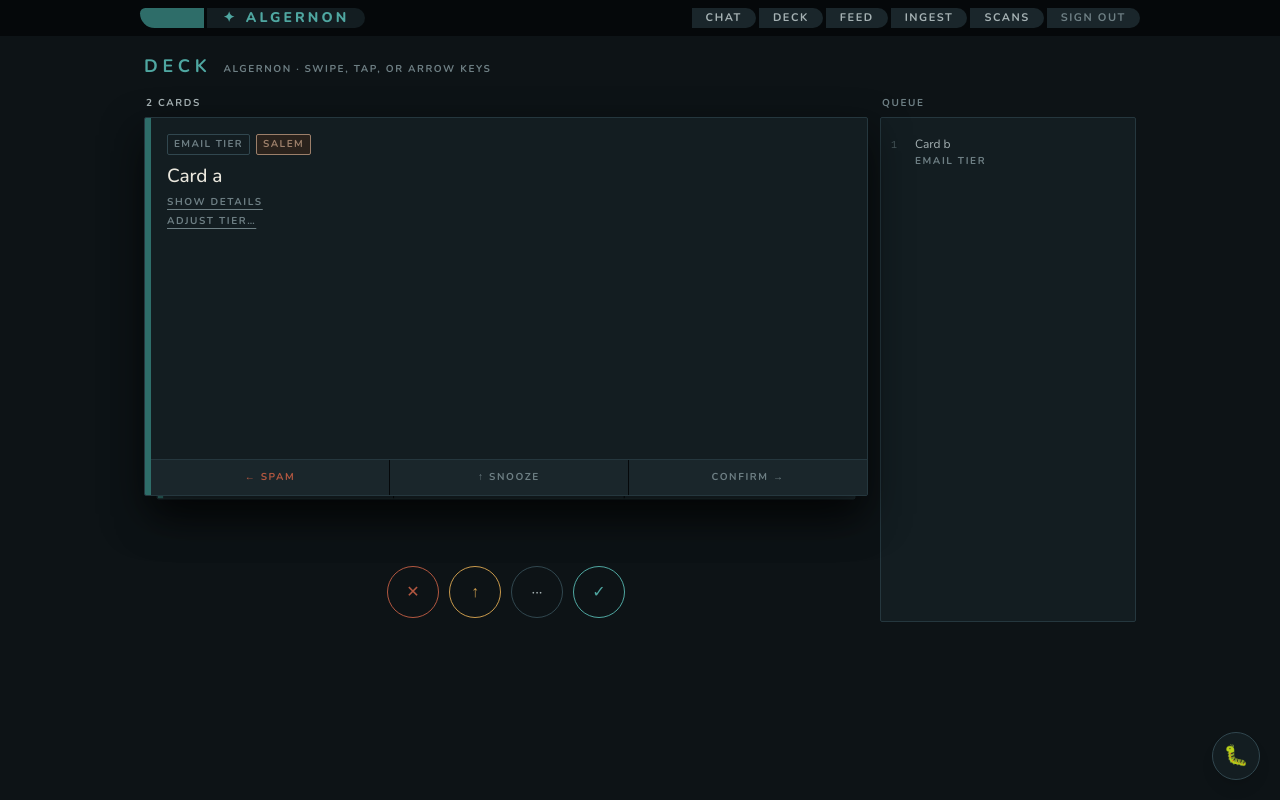
Scenario: a resume must not strand the cursor › an unrecorded verdict survives the re-deal — the ledger is not session state
The width and height of the screenshot is (1280, 800).
Check: the element with test id "deck-card" is shown, box [144, 117, 868, 496]
Click the button with test id "deck-btn-affirm" at (599, 592), box [573, 566, 625, 618]
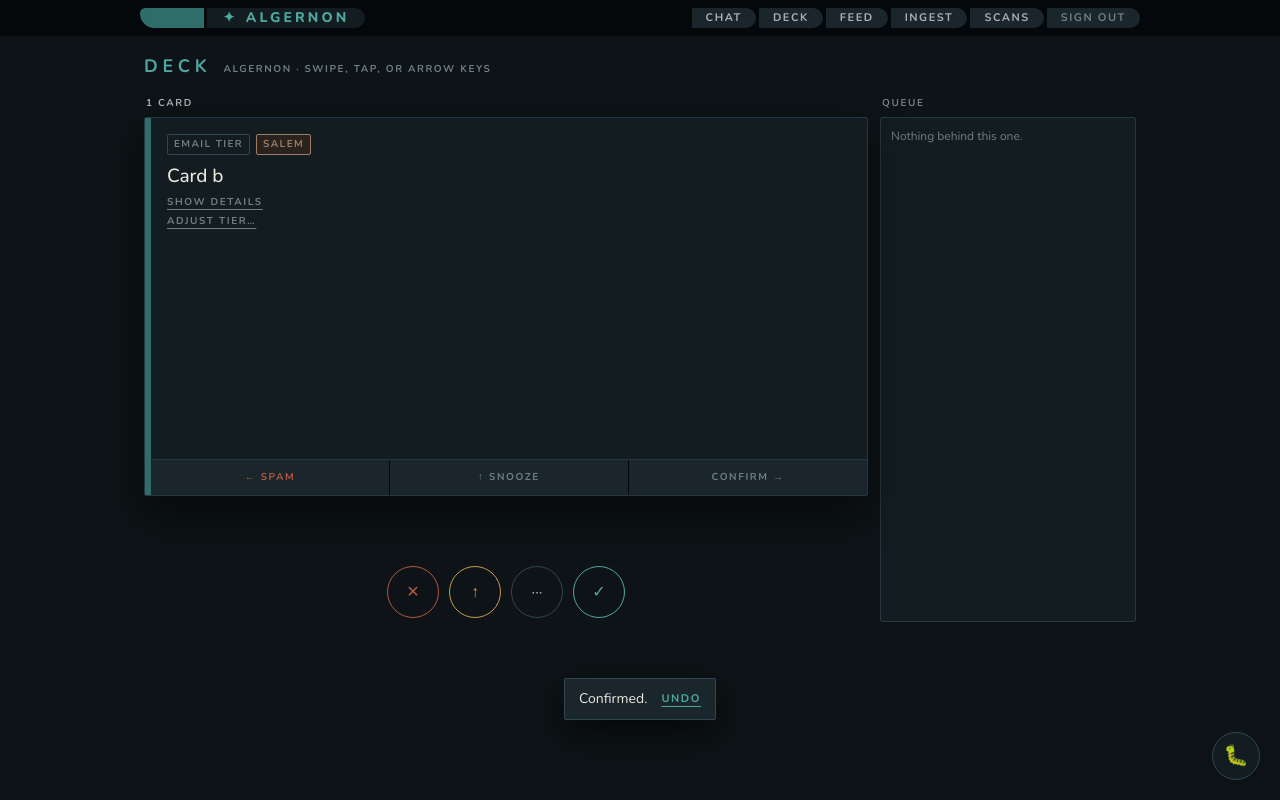
Click the button with test id "deck-btn-affirm" at (599, 592), box [573, 566, 625, 618]
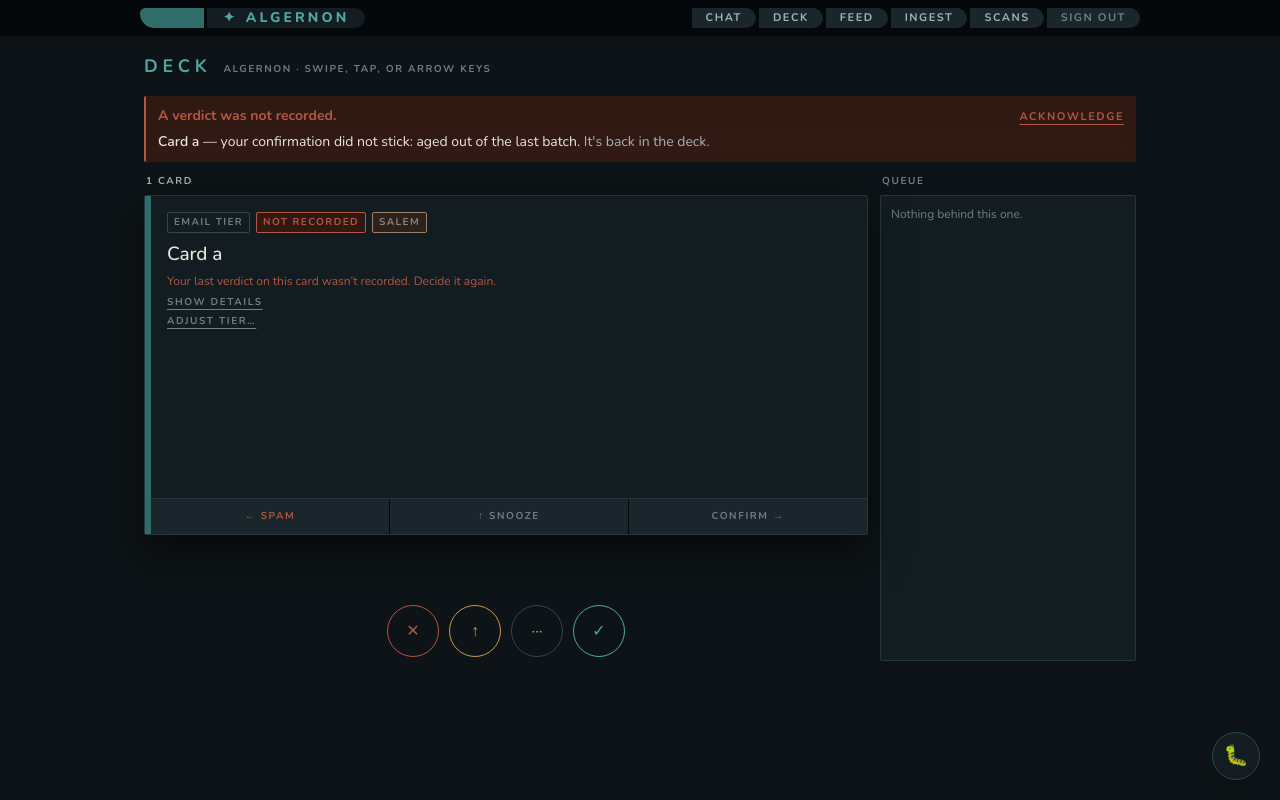
Check: the message with test id "deck-unrecorded" is shown, box [144, 96, 1136, 162]
Check: the message with test id "deck-unrecorded" shows "Card a", box [158, 132, 199, 151]
Check: the text "Not recorded" is shown, box [256, 212, 366, 233]
